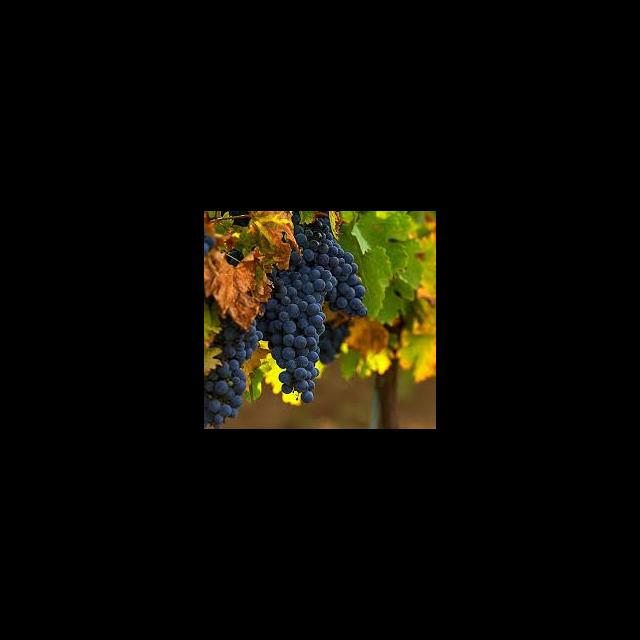grape: (261, 221, 374, 406)
